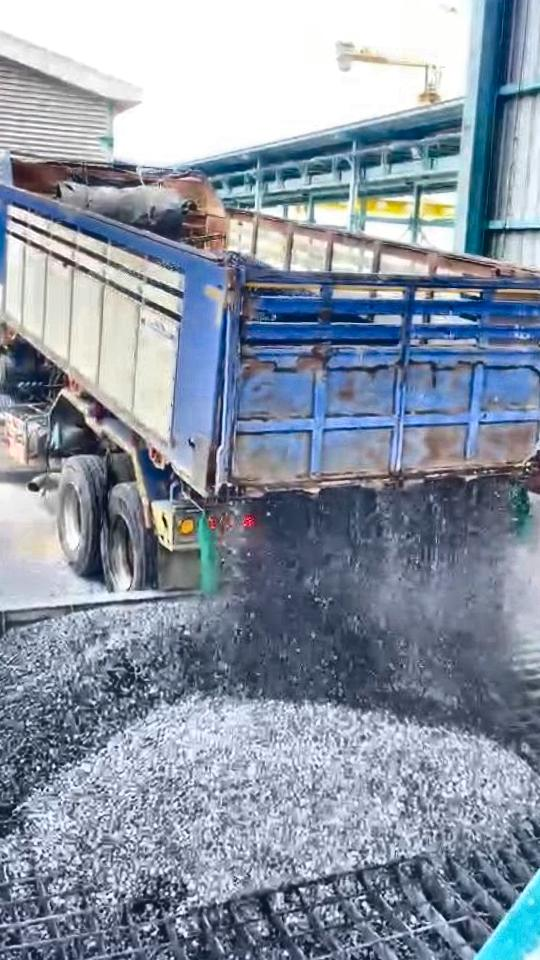gravel: (9, 695, 540, 911), (186, 479, 513, 726), (0, 599, 216, 801)
